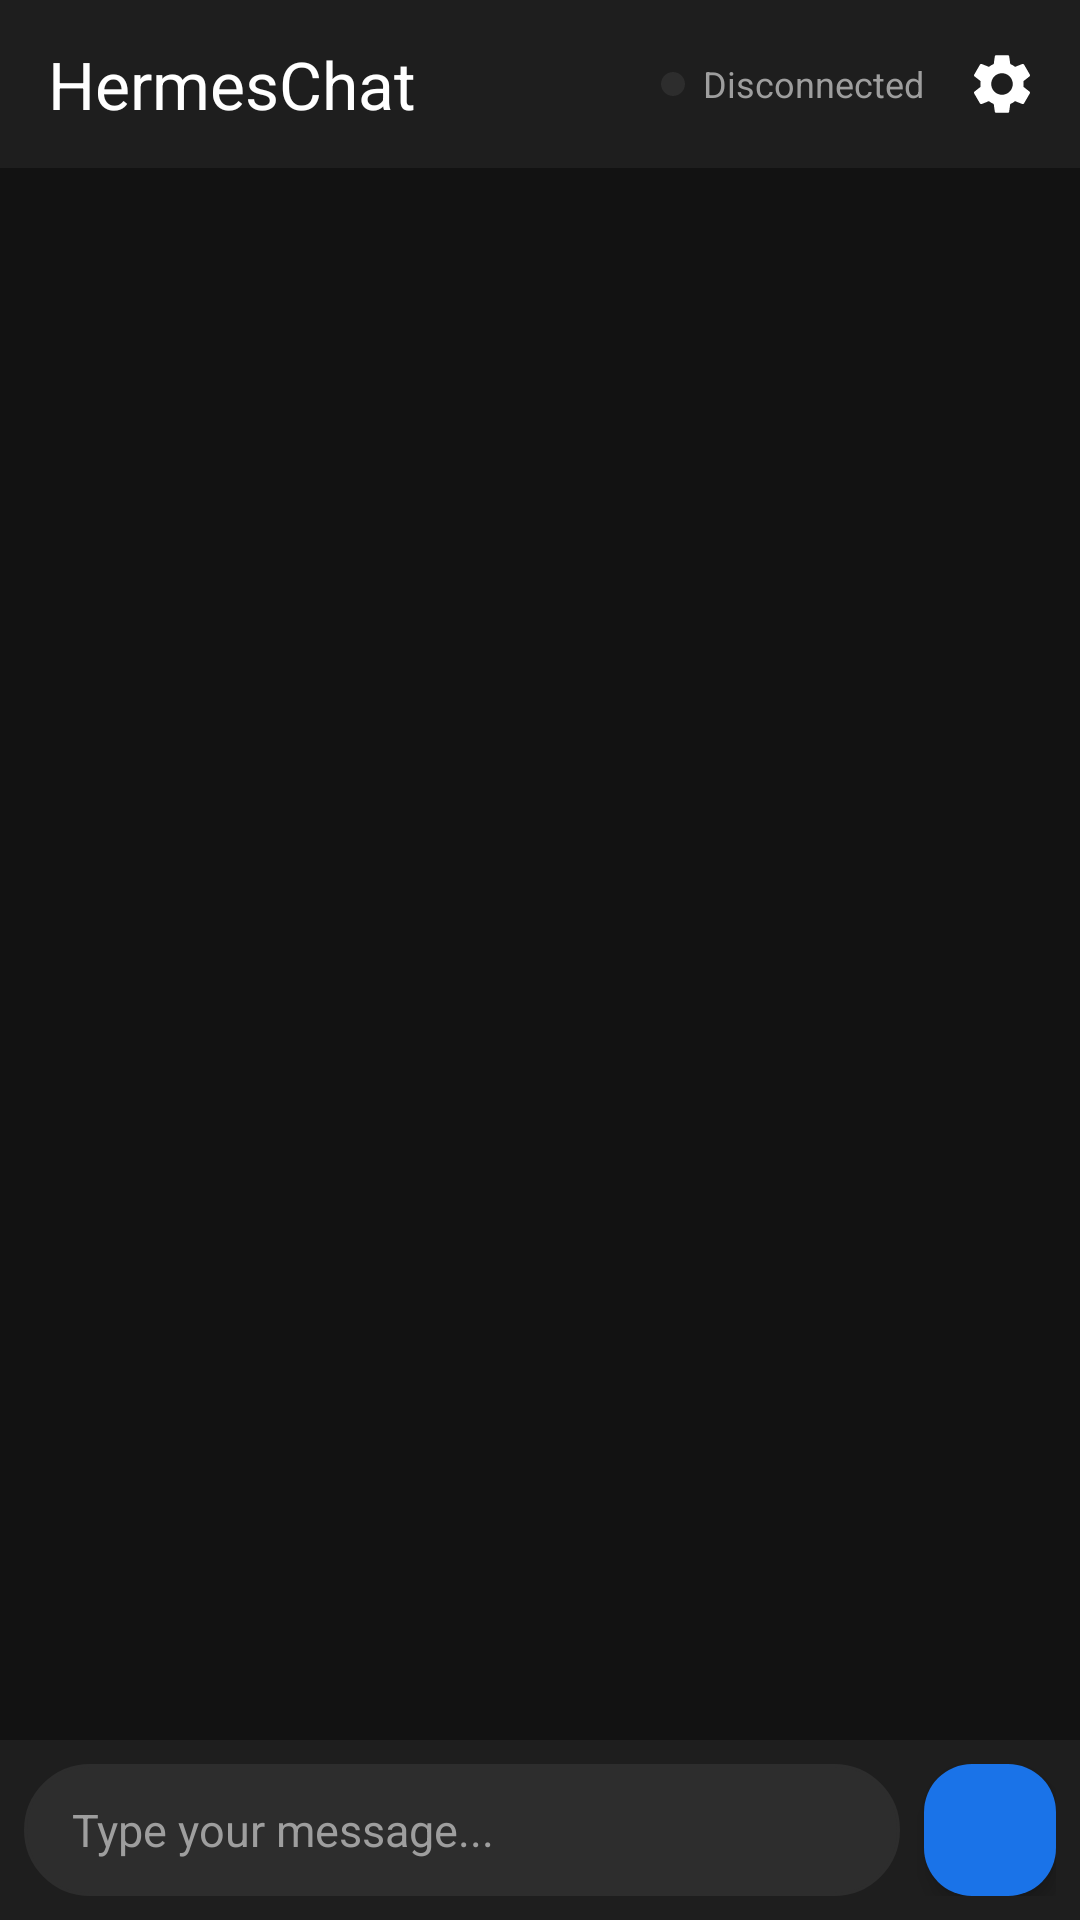

Screen size 1080*1920. Icon name, then its center in pixels as [x,y]:
Settings: [1002,84]
